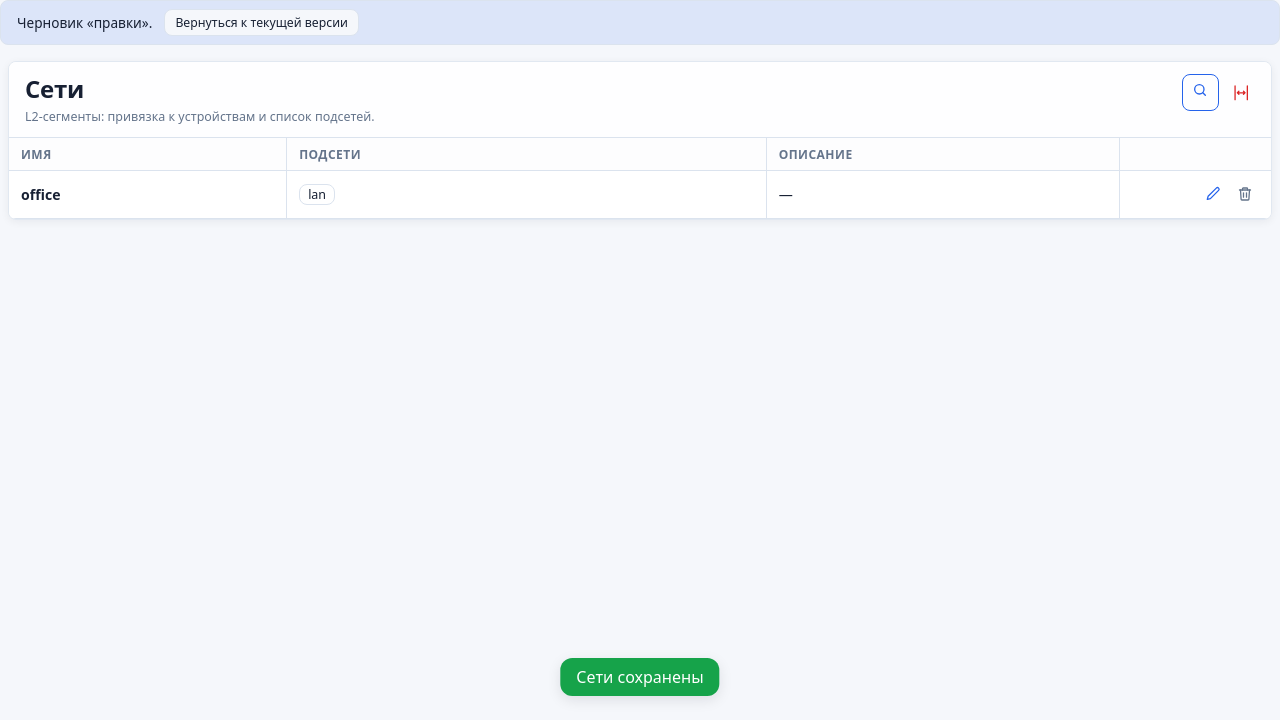
Test: NetworksPage › offers only free subnets in the add combo
Expected: the text "office" is shown, x1=9 y1=170 x2=287 y2=218
Step 1. Click the button titled "Изменить сеть office" → x=1213, y=194, box x1=1199 y1=180 x2=1227 y2=208
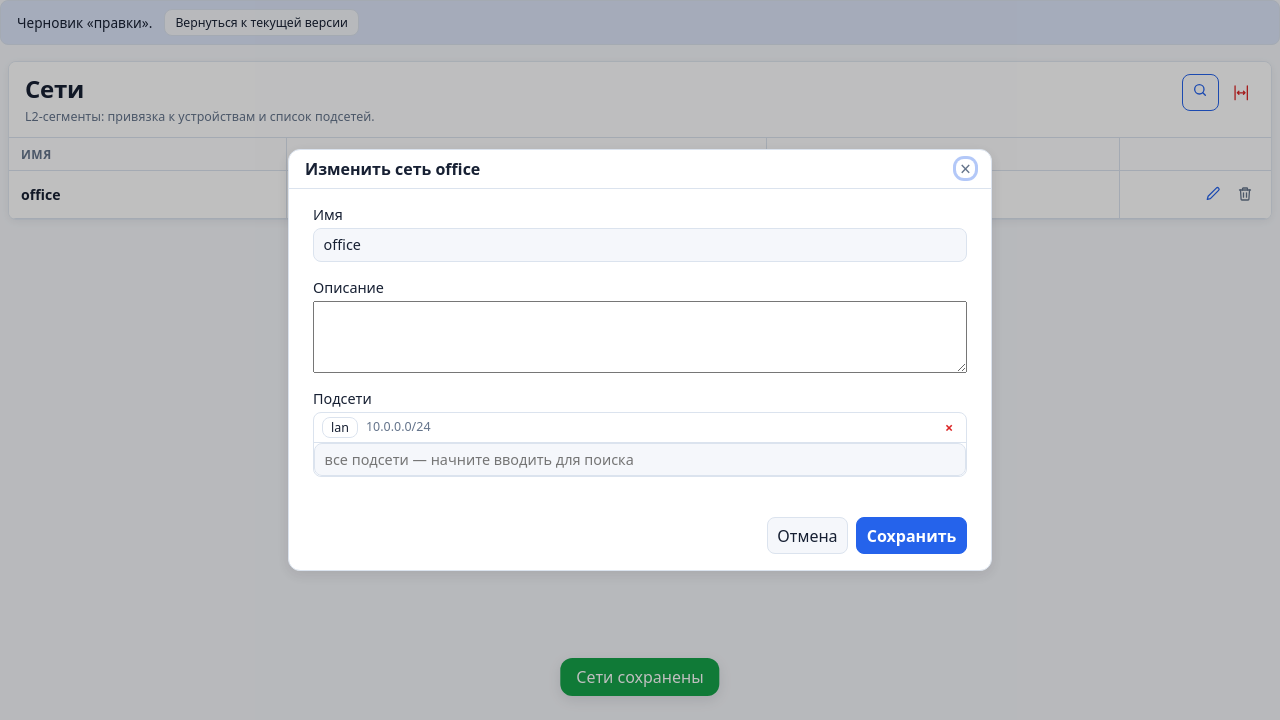
Result: the field labelled "Имя" is shown at x1=313 y1=228 x2=967 y2=262
Step 2. Click the field with placeholder "все подсети — начните вводить для поиска" → x=640, y=460, box x1=314 y1=443 x2=966 y2=476
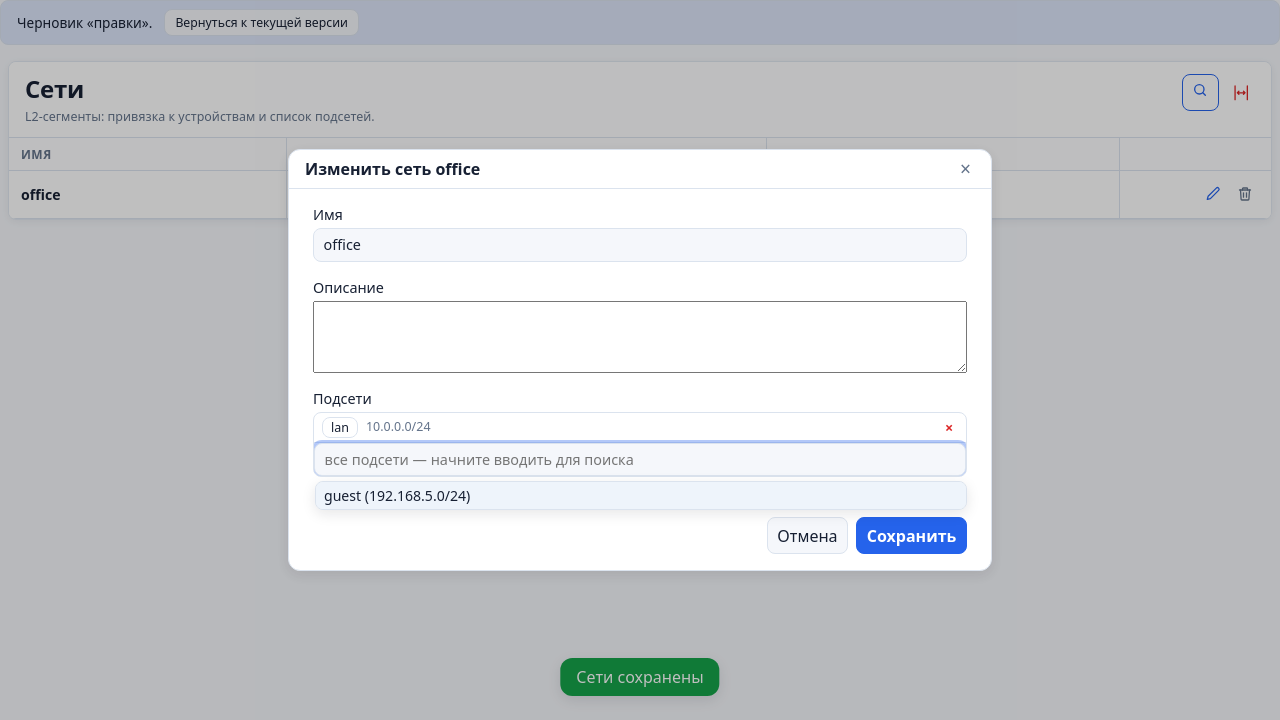
Result: the button "guest (192.168.5.0/24)" is shown at x1=316 y1=482 x2=966 y2=509
